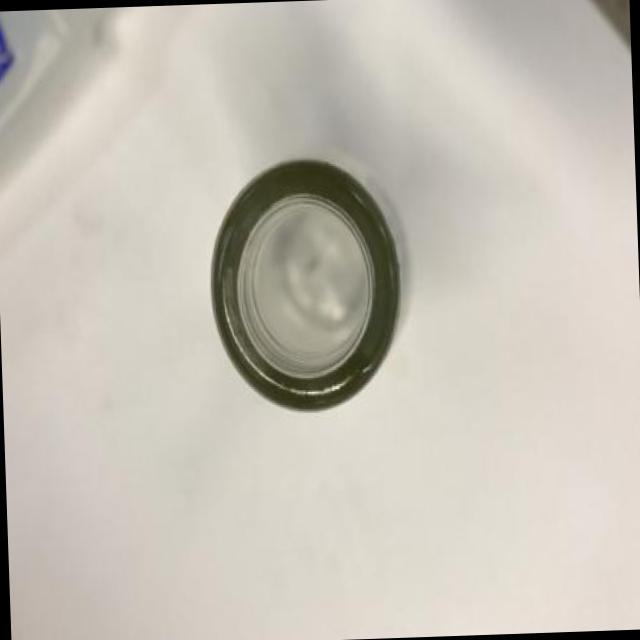chai_thuy_tinh: (210, 154, 408, 411)
